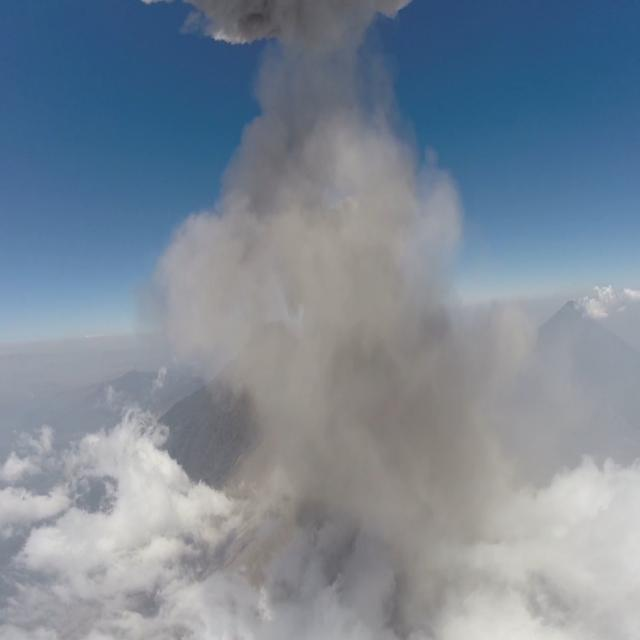Plume: (149, 67, 499, 597), (157, 0, 440, 64)
